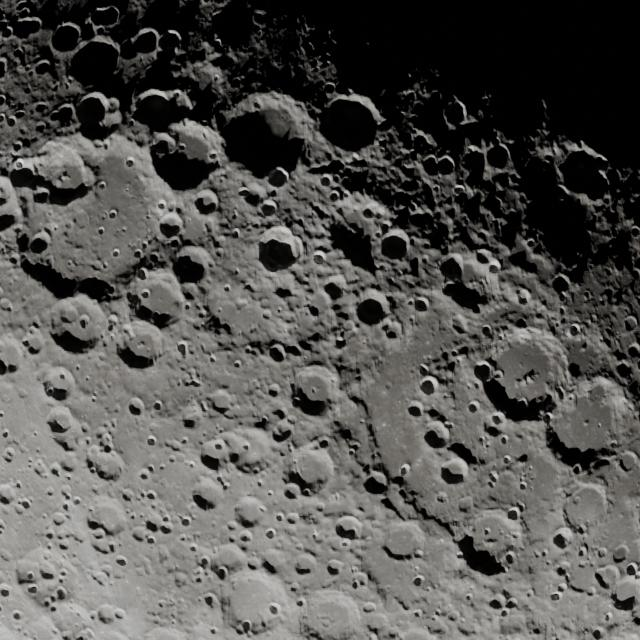crater: (552, 376, 632, 456), (153, 119, 224, 188), (314, 87, 384, 152), (406, 450, 470, 513), (301, 588, 366, 640), (557, 146, 612, 203), (133, 270, 188, 324), (68, 36, 124, 88), (132, 86, 193, 130), (564, 484, 610, 530), (119, 320, 166, 365), (258, 226, 303, 271), (292, 447, 336, 489), (294, 364, 338, 406), (75, 90, 118, 132), (382, 520, 426, 558), (89, 498, 128, 536), (86, 442, 126, 479), (175, 244, 213, 282), (566, 556, 602, 592), (218, 430, 254, 464), (192, 476, 226, 510), (50, 22, 83, 54), (233, 495, 268, 525), (379, 228, 411, 260), (442, 97, 471, 131), (356, 296, 388, 326), (130, 27, 162, 55), (1, 335, 25, 372), (46, 405, 76, 434), (200, 437, 230, 466), (485, 141, 514, 171), (612, 576, 640, 606), (90, 5, 122, 30), (439, 254, 467, 282), (440, 456, 469, 483), (334, 514, 364, 540), (143, 512, 173, 537), (424, 420, 451, 447), (262, 548, 290, 574), (22, 324, 46, 354), (594, 564, 620, 591), (158, 212, 184, 238), (158, 28, 184, 54), (28, 230, 52, 256), (208, 389, 233, 413), (363, 469, 388, 492), (36, 560, 58, 584), (551, 526, 574, 548), (550, 273, 572, 296), (59, 451, 81, 473), (295, 552, 317, 573), (435, 154, 456, 176), (273, 420, 294, 442), (91, 537, 115, 555), (473, 360, 494, 380), (361, 202, 381, 222), (419, 376, 439, 395), (268, 343, 287, 363), (382, 320, 402, 339), (33, 59, 54, 77), (422, 155, 440, 175), (0, 483, 17, 504), (127, 397, 145, 416), (96, 604, 115, 622), (260, 198, 278, 216), (407, 400, 424, 418), (92, 569, 110, 586), (326, 559, 344, 576), (283, 482, 300, 500), (412, 296, 430, 312), (488, 594, 506, 610), (32, 459, 48, 477), (515, 288, 531, 306), (613, 544, 629, 562), (131, 526, 147, 542), (202, 593, 218, 609), (351, 572, 368, 587), (176, 340, 190, 358), (214, 565, 229, 581), (623, 316, 638, 332), (0, 297, 14, 313), (489, 412, 505, 426), (238, 530, 253, 544), (267, 383, 281, 398), (0, 583, 13, 599), (114, 554, 128, 568), (121, 488, 135, 502), (52, 511, 66, 525), (54, 587, 68, 601), (148, 252, 162, 266), (136, 267, 150, 281), (503, 551, 516, 566), (107, 314, 120, 329), (398, 463, 411, 478), (240, 618, 253, 633), (467, 400, 480, 414), (507, 507, 520, 521), (313, 251, 327, 264), (362, 602, 377, 614), (264, 527, 277, 540), (569, 323, 582, 336), (268, 603, 281, 616), (138, 469, 150, 482), (146, 489, 158, 502), (5, 116, 18, 128), (329, 190, 342, 202), (113, 607, 125, 620), (320, 175, 332, 187), (12, 609, 24, 621), (180, 516, 192, 527), (146, 434, 157, 446), (156, 199, 167, 211), (12, 141, 23, 153), (140, 288, 151, 300), (413, 575, 424, 587), (14, 110, 27, 120), (498, 435, 509, 446), (482, 324, 492, 336), (153, 400, 163, 412), (1, 428, 11, 439), (126, 156, 136, 167), (231, 228, 241, 239), (134, 249, 144, 259), (108, 209, 118, 219), (111, 248, 121, 258), (97, 180, 107, 190), (189, 544, 199, 554), (296, 598, 306, 608), (97, 226, 106, 235), (233, 359, 242, 368), (223, 284, 232, 292)
